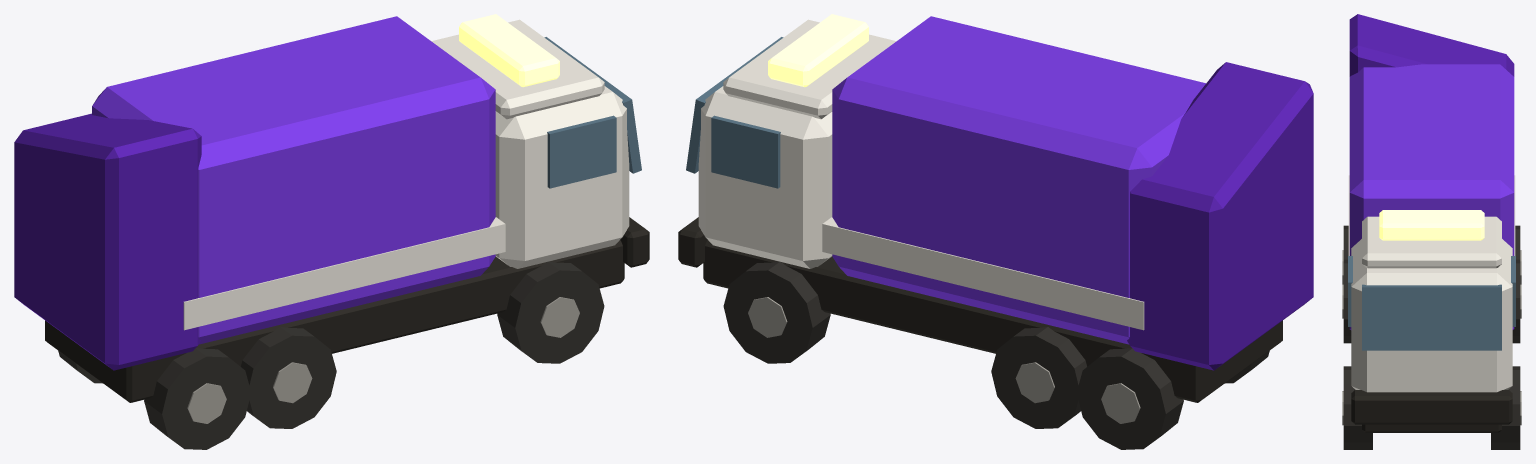
File: truck.glb
The picture shows the model from 3 angles, left to right: view 1: azimuth 30°, elevation 25°; view 2: azimuth 150°, elevation 25°; view 3: azimuth 270°, elevation 25°; orthographic projection. The views are drawn at different scales.
Parts seen in each view (by area): view 1: body, body3, paper, tire, ink, glass, light, metal; view 2: body, body3, paper, tire, ink, glass, light, metal; view 3: body, paper, glass, ink, body3, tire, light, metal.
Boxes of the visible parts, x1,y1,x2,y2 form: body: (92,16,495,344); body3: (14,113,201,370); paper: (183,19,629,330); tire: (58,261,604,449); ink: (45,217,649,402); glass: (544,37,641,188); light: (459,14,559,87); metal: (187,297,579,423); body: (832,16,1205,344); body3: (1127,62,1313,370); paper: (698,19,1144,330); tire: (723,261,1269,449); ink: (678,217,1282,402); glass: (686,37,783,188); light: (768,14,868,87); metal: (748,297,1140,423); body: (1349,64,1514,329); paper: (1348,175,1515,392); glass: (1348,256,1515,350); ink: (1351,390,1512,432); body3: (1349,14,1514,76); tire: (1343,225,1520,449); light: (1379,210,1484,240); metal: (1342,250,1521,425).
Size of the model in its own units: 7.3 by 4.07 by 2.56.
